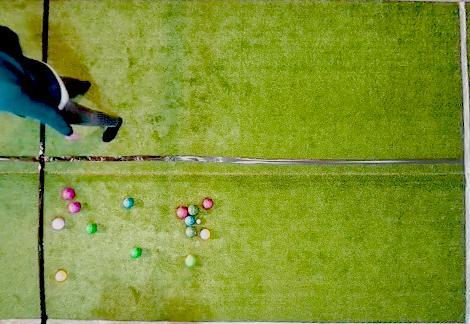blue: (123, 198, 133, 208), (185, 216, 195, 225)
green: (185, 255, 196, 267), (131, 247, 142, 258), (86, 223, 97, 234), (186, 227, 196, 237), (188, 205, 198, 215)
red: (61, 188, 76, 200), (51, 218, 65, 230), (67, 202, 81, 214), (177, 206, 188, 219), (202, 198, 213, 209)
vline: (1, 125, 46, 323), (457, 0, 469, 324), (1, 0, 50, 62)
white: (196, 219, 201, 224)
yellow: (55, 270, 67, 281), (200, 229, 211, 239)
